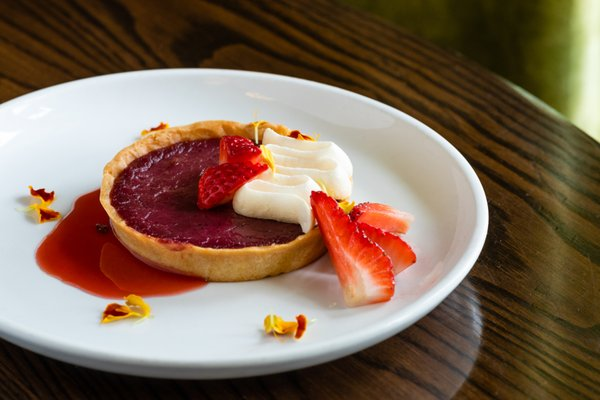steak: (310, 190, 412, 306)
taco: (98, 118, 353, 282)
